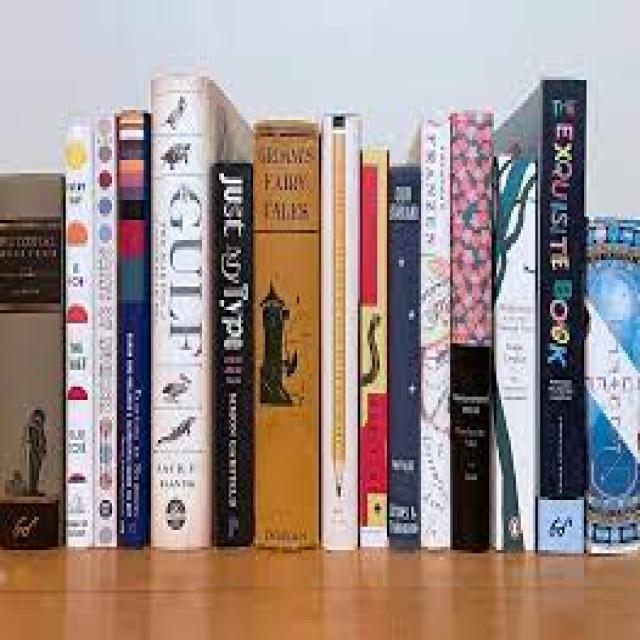book-spines: (150, 71, 211, 549), (254, 120, 320, 550), (538, 78, 587, 552), (0, 174, 61, 550), (451, 107, 492, 553), (588, 213, 640, 553), (322, 112, 359, 551), (211, 164, 253, 547), (494, 153, 534, 552), (421, 110, 451, 550), (117, 107, 147, 547), (389, 166, 421, 548), (360, 148, 388, 547), (64, 123, 90, 548), (92, 113, 116, 547)
